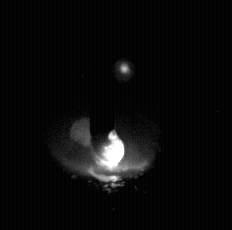arame: (90, 0, 117, 152)
poca: (48, 0, 157, 230)
